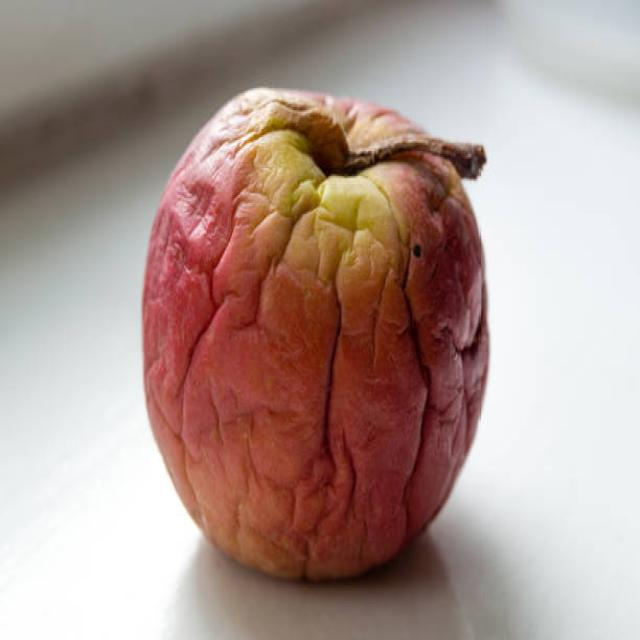overripe: (137, 82, 494, 587)
